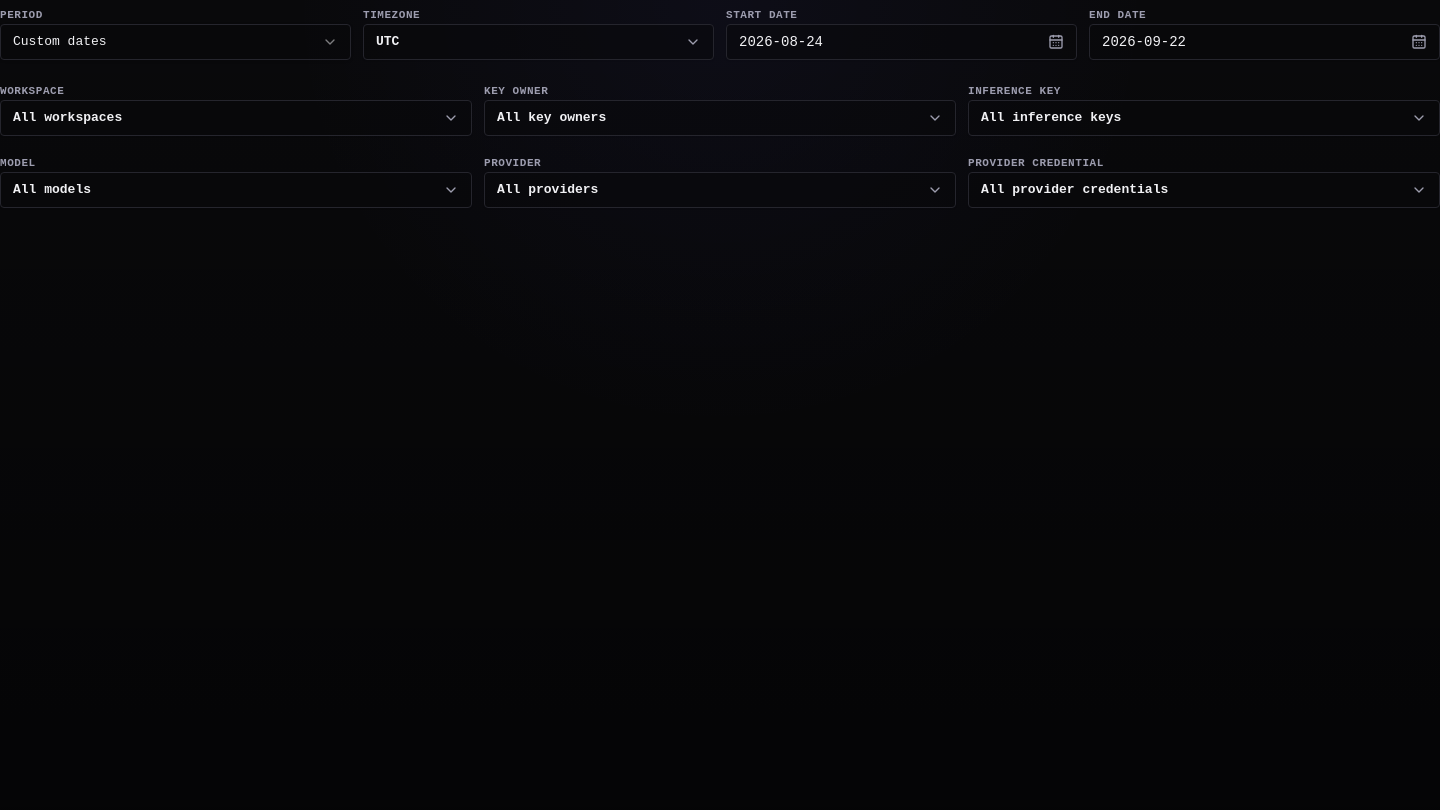
accepts a directly entered date outside the displayed month
This screenshot has width=1440, height=810.
Click the button named "Choose start date, August 24, 2026".
click(781, 42)  # box [726,24,1077,60]
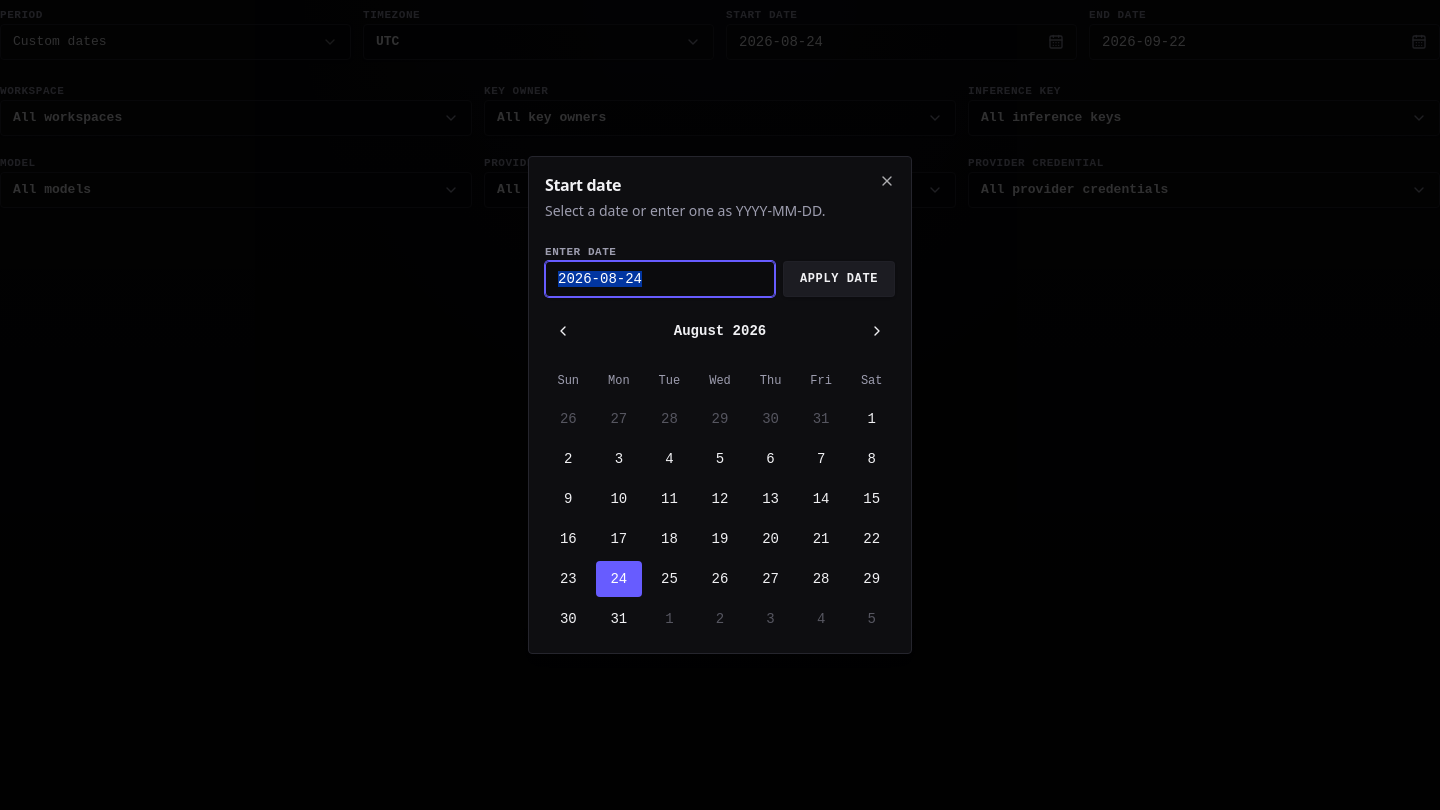
Replace the text in the field named "Date in YYYY-MM-DD format" with "2020-02-30" at (660, 279), box [545,261,775,297]
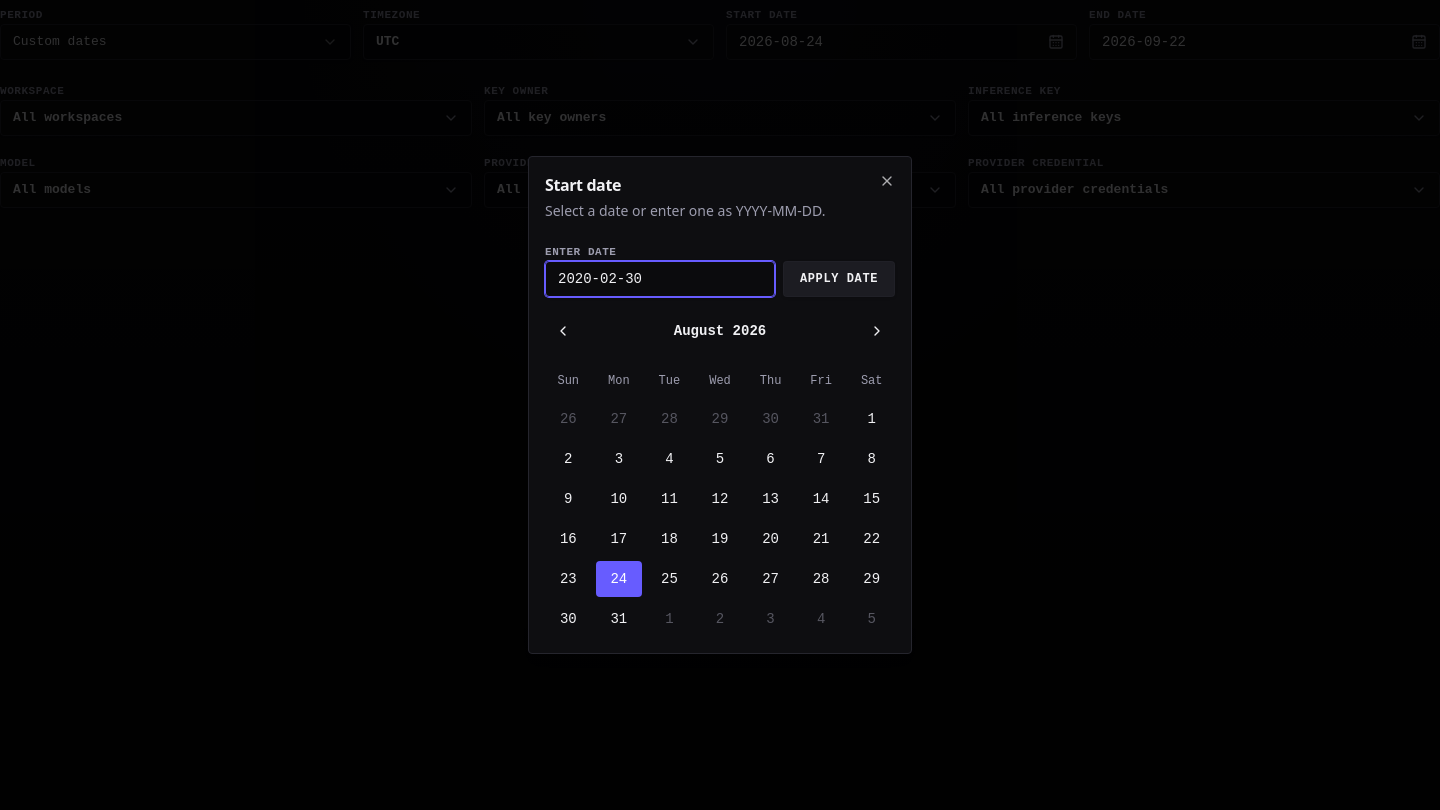
Click the button "Apply date".
click(839, 279)  # box [783,261,895,297]
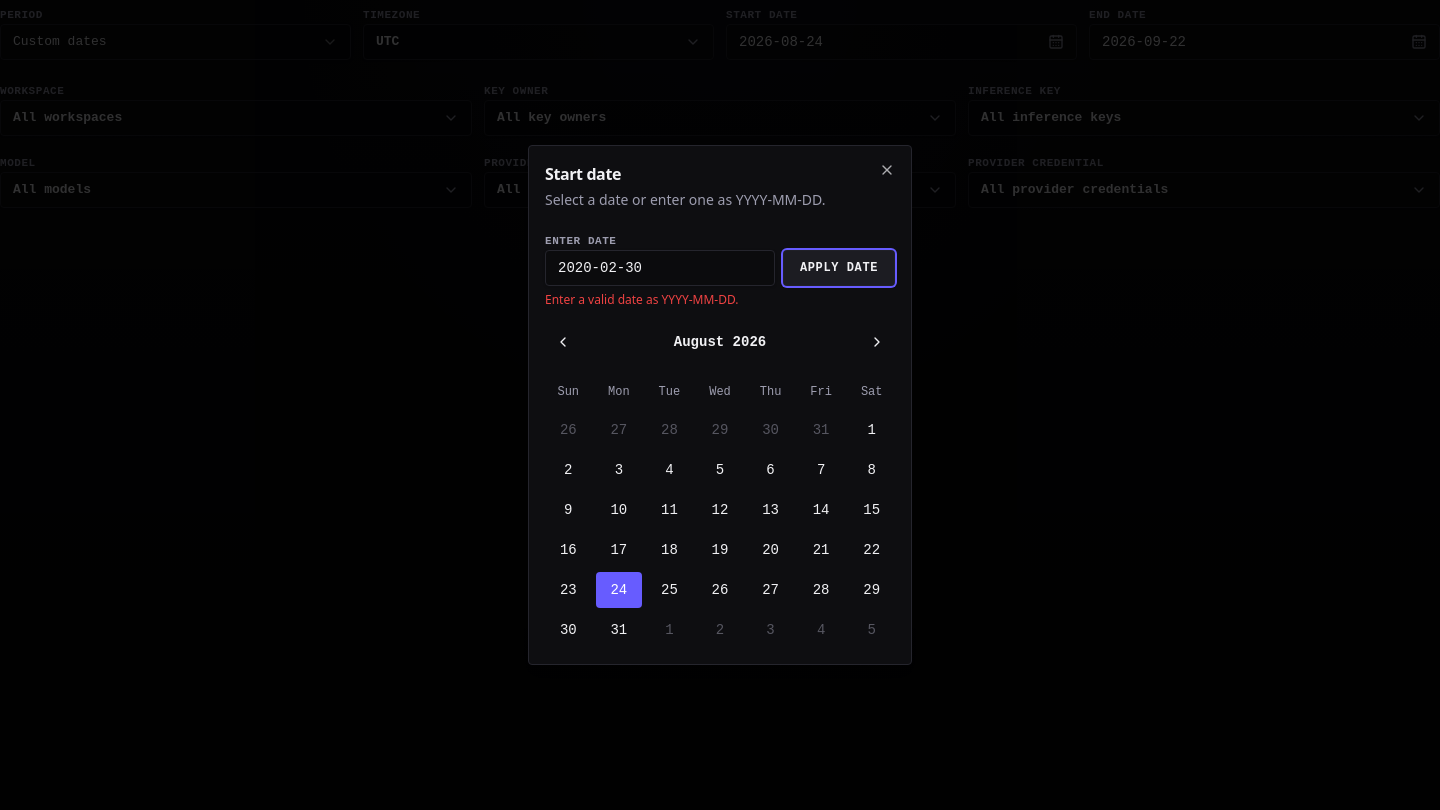
Check: the message shows "Enter a valid date", box [545,291,738,308]
Clear the field named "Date in YYYY-MM-DD format" at (660, 268), box [545,250,775,286]
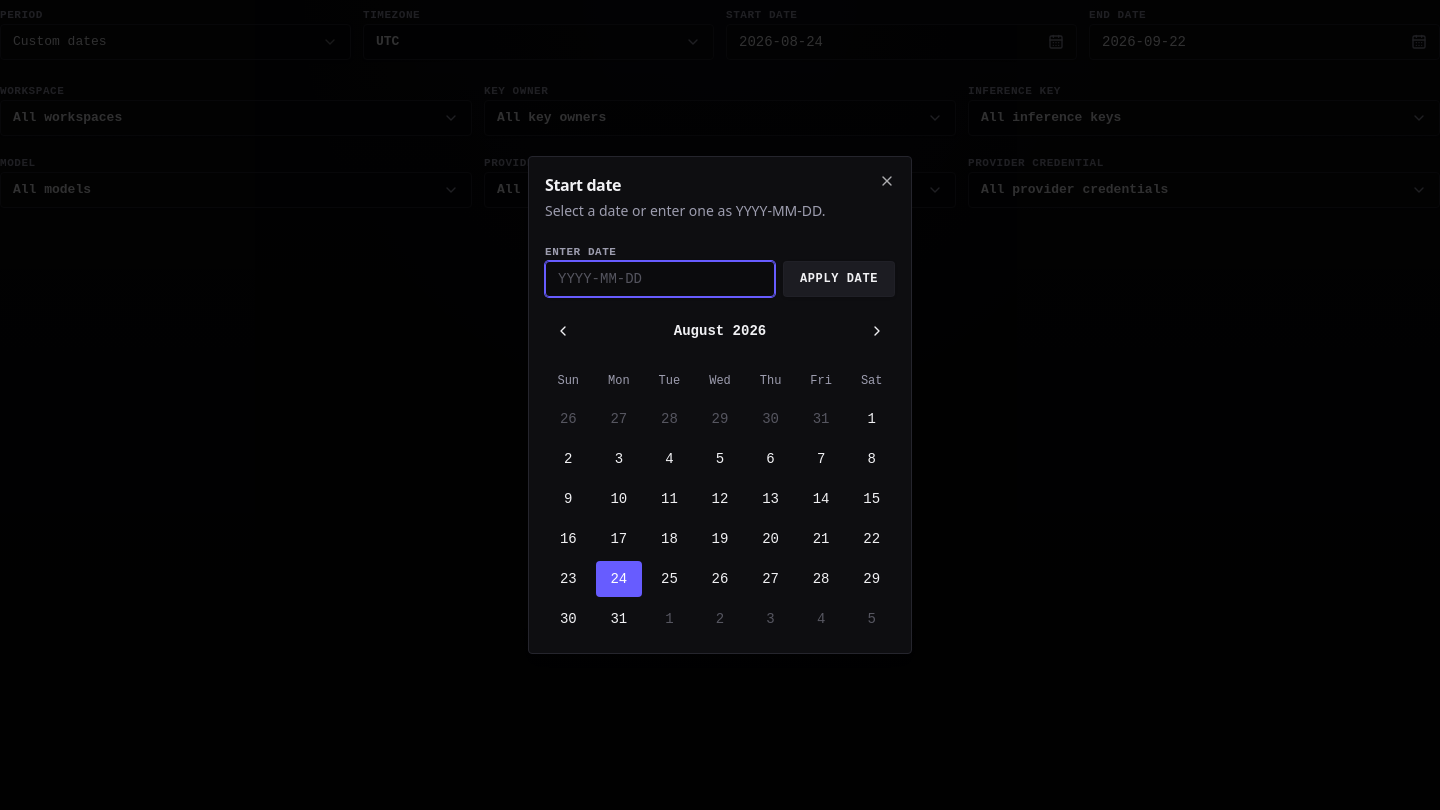
Type "2020-01-01" into the field named "Date in YYYY-MM-DD format".
click(660, 279); type("2020-01-01")  # box [545,261,775,297]
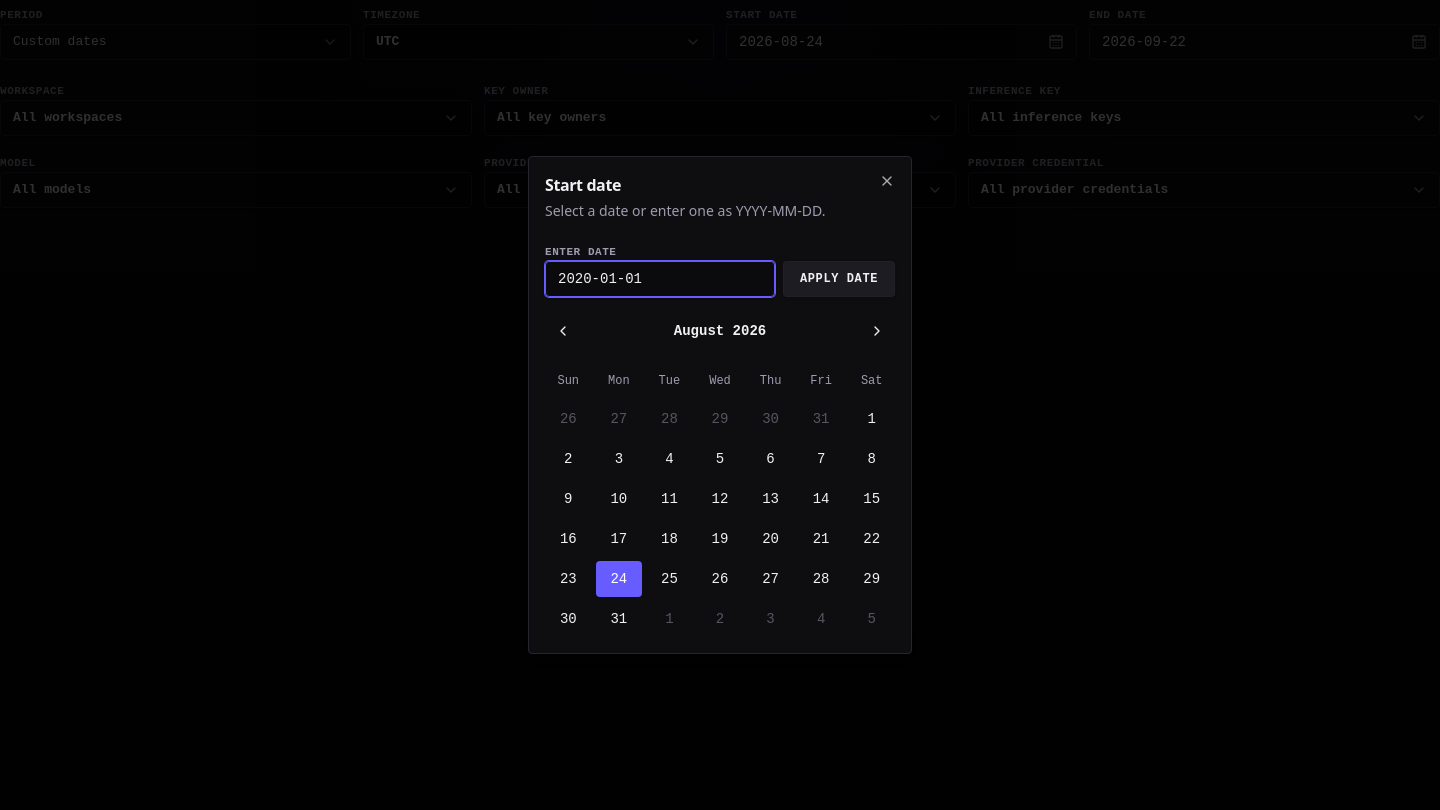
Click the button "Apply date".
click(839, 279)  # box [783,261,895,297]
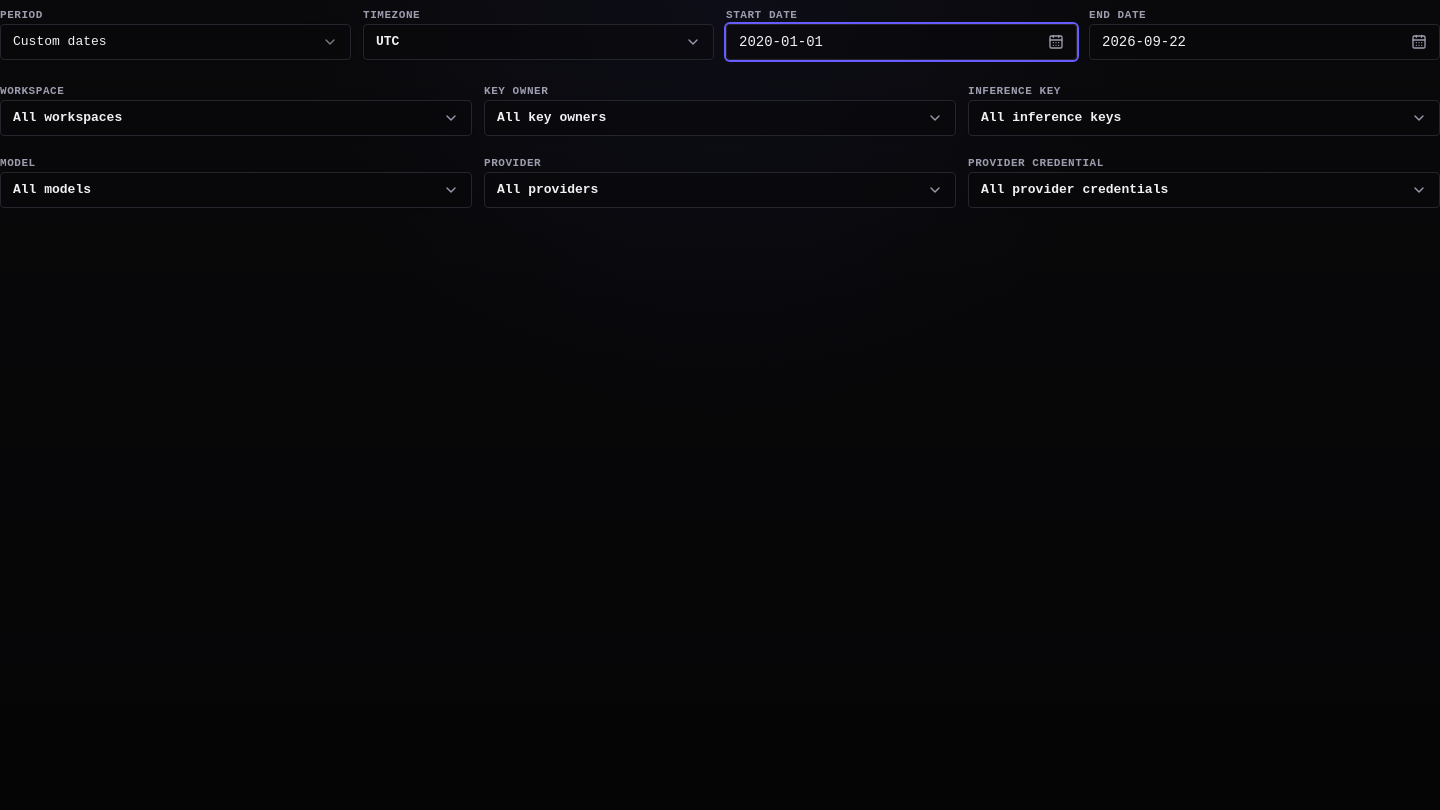
Check: the button named "Choose start date, January 1, 2020" is shown, box [726,24,1077,60]
